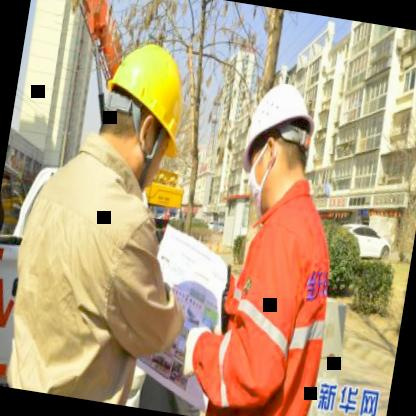helmet: (86, 22, 205, 197), (228, 64, 329, 212)
